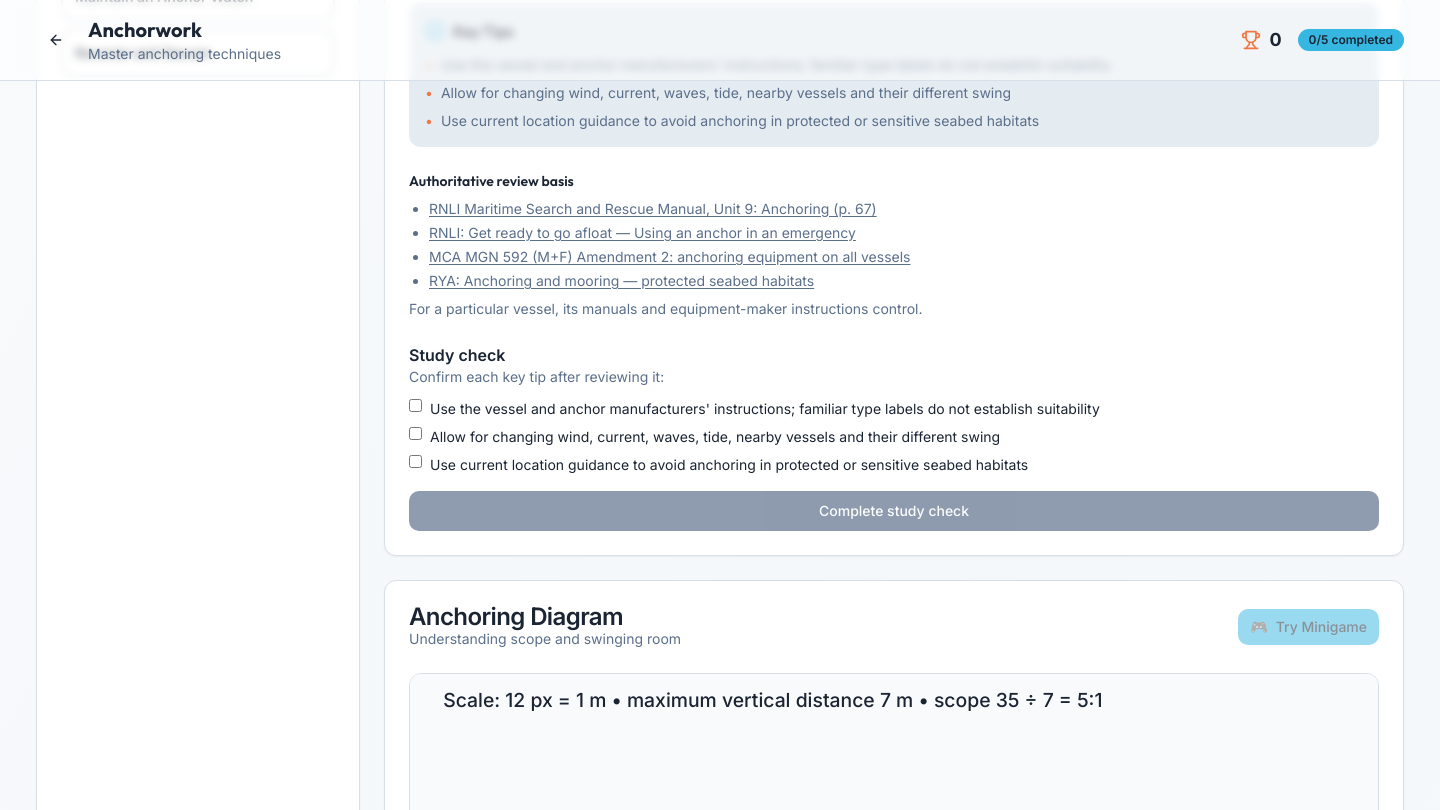
Test: AnchorTheory durable completion › persists first completion by stable topic ID with proportional scoring
(page scrolled)
Step 1. Click the 1st checkbox → click(416, 406), box left=409, top=399, right=422, bottom=412
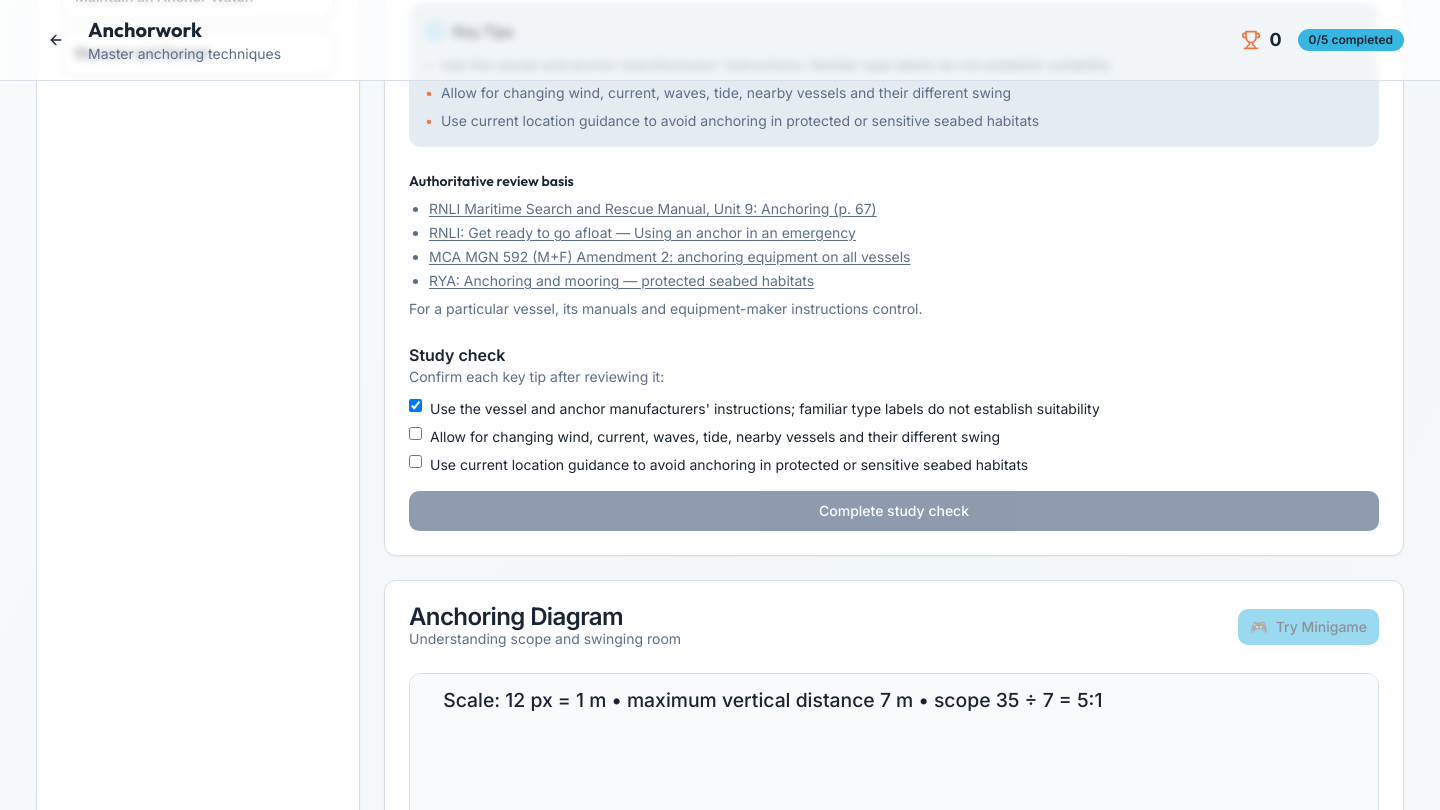
Step 2. Click the 2nd checkbox → click(416, 434), box left=409, top=427, right=422, bottom=440
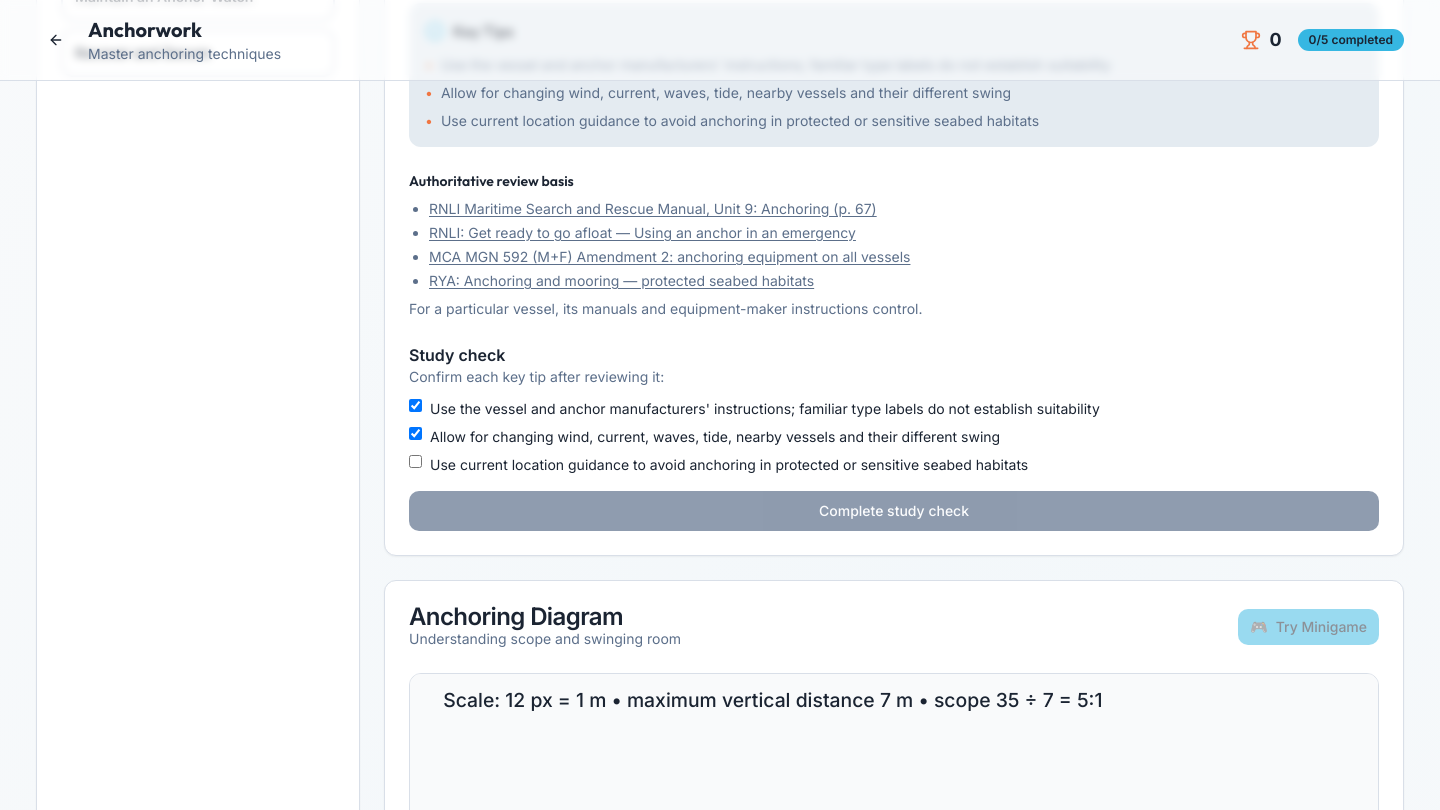
Step 3. Click the 3rd checkbox → click(416, 462), box left=409, top=455, right=422, bottom=468
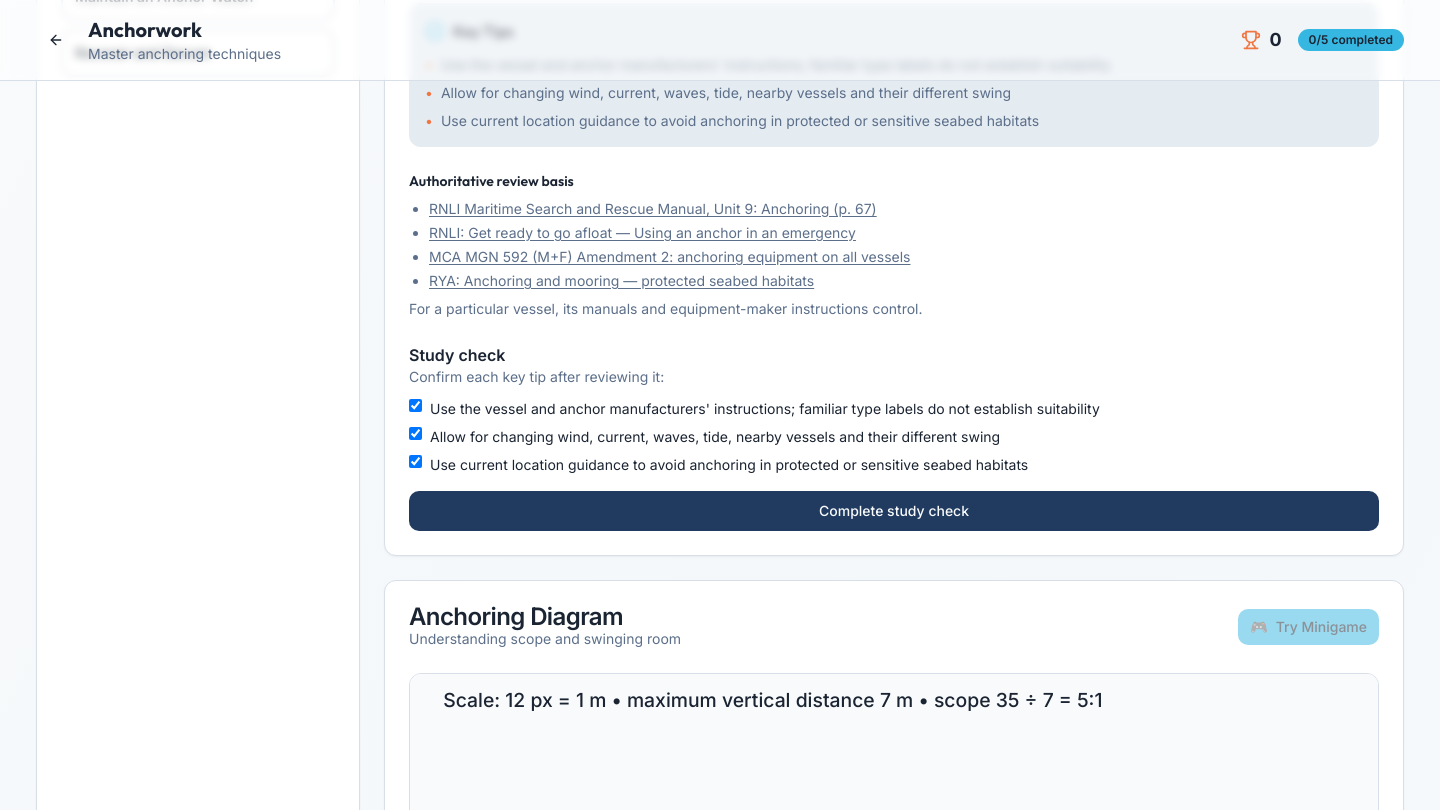
Step 4. Click the button "Complete study check" → click(894, 511), box left=409, top=491, right=1379, bottom=531
(page scrolled)
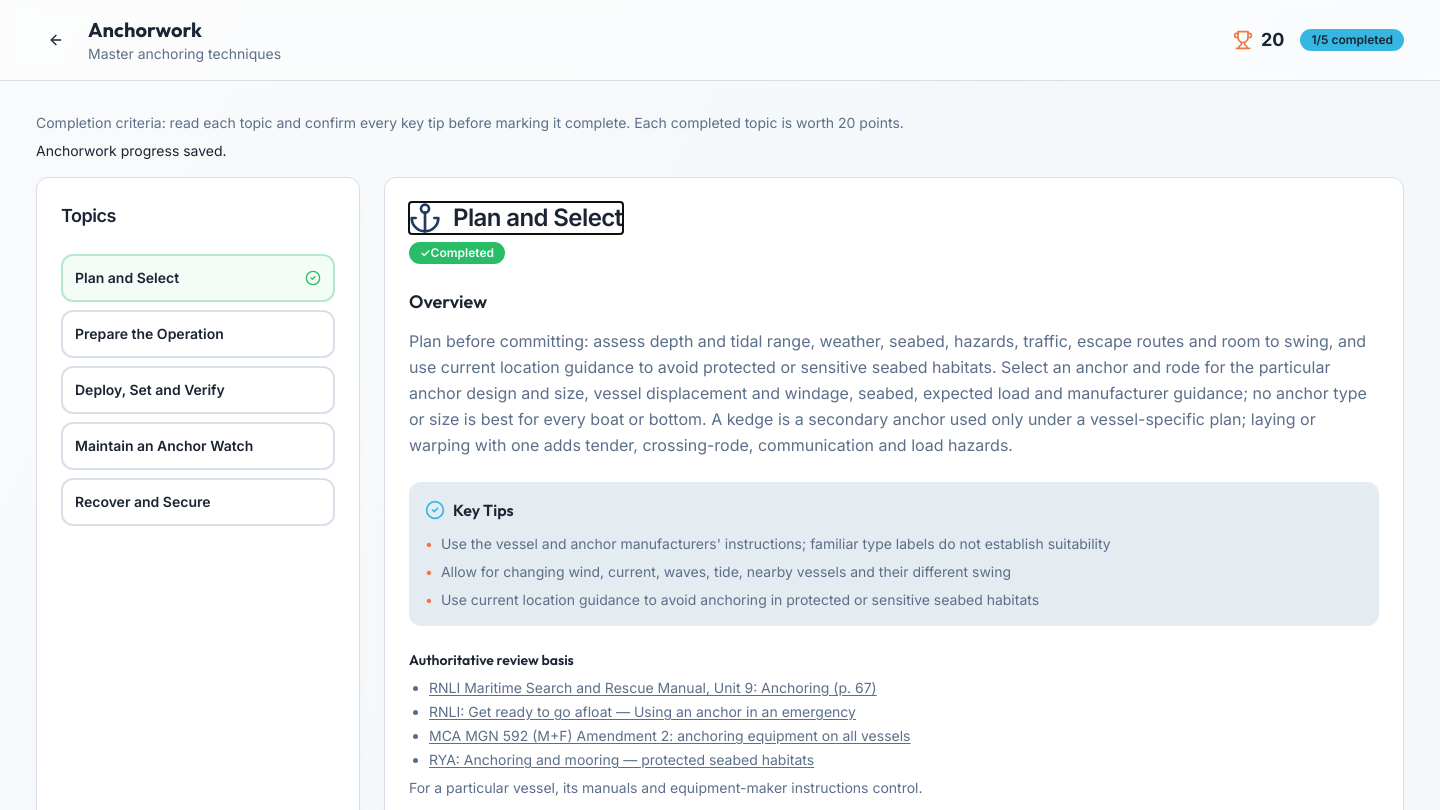
Expected: the text "20" is shown, left=1261, top=26, right=1284, bottom=54
Expected: the button "Complete study check" is gone
